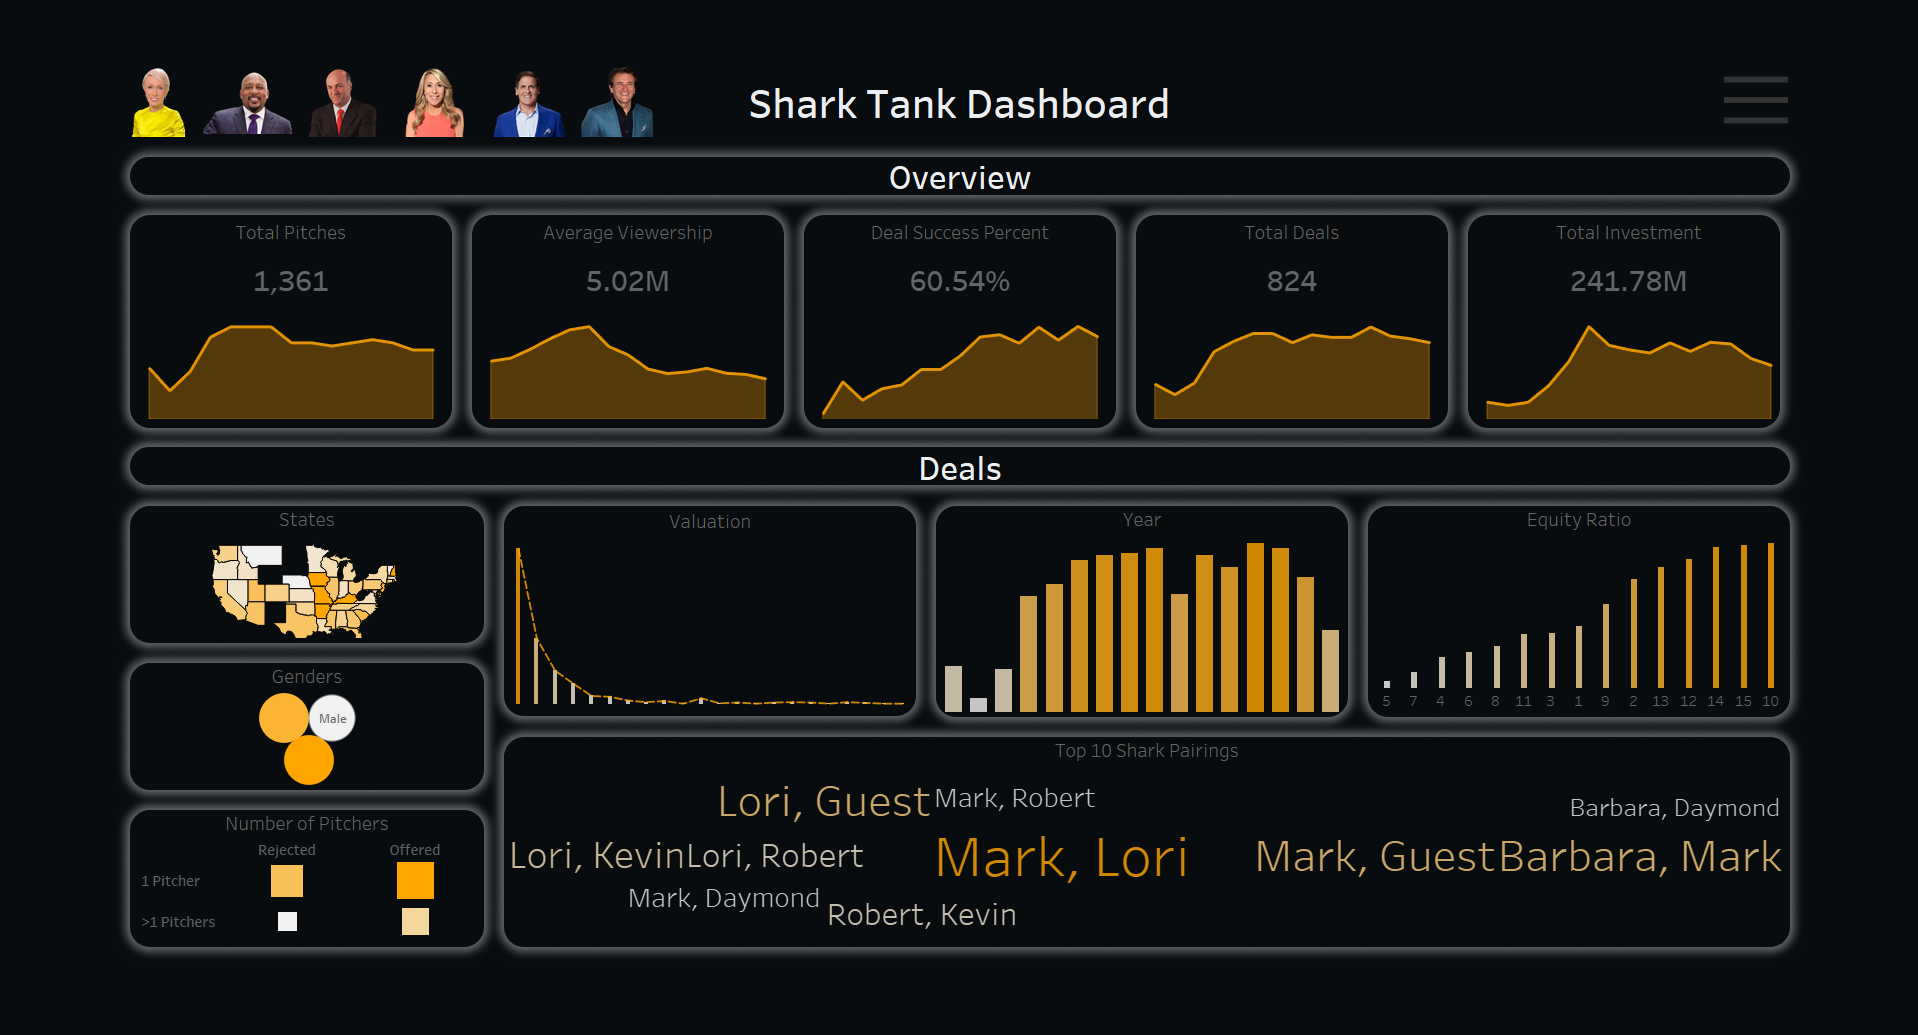

This screenshot's page, from the dashboard's own definition file:
{"tool":"tableau","page":{"name":"Main Dashboard","canvas":[1700,900],"ordinal":4},"visuals":[{"type":"image","param":"Image/Main Dashboard Figma Frame v2.png","box":[0,0,1700,900]},{"type":"dashboard-object","box":[0,0,93,70]},{"type":"dashboard-object","box":[93,0,93,70]},{"type":"dashboard-object","box":[186,0,92,70]},{"type":"dashboard-object","box":[278,0,92,70]},{"type":"dashboard-object","box":[370,0,92,70]},{"type":"dashboard-object","box":[462,0,92,70]},{"type":"text","box":[554,0,591,70]},{"type":"filter","title":"Total Pitches","param":"[federated.1ieom2h10l72pi1cs9e2u08v19sh].[none:season:ok]","box":[1145,0,153,70]},{"type":"blank","box":[1145,0,97,70]},{"type":"filter","title":"Total Pitches","param":"[federated.1ieom2h10l72pi1cs9e2u08v19sh].[none:deal_valuation:qk]","box":[1298,0,153,70]},{"type":"filter","title":"Total Pitches","param":"[federated.1ieom2h10l72pi1cs9e2u08v19sh].[none:industry:nk]","box":[1451,0,152,70]},{"type":"text","box":[0,70,1700,78]},{"type":"text","box":[20,148,322,33]},{"type":"text","box":[362,148,312,33]},{"type":"text","box":[694,148,312,33]},{"type":"text","box":[1026,148,312,33]},{"type":"text","box":[1358,148,322,33]},{"type":"worksheet","title":"BAN Total Pitches","mark":"Text","box":[20,181,322,63]},{"type":"worksheet","title":"BAN Avg Viewership","mark":"Text","box":[362,181,312,63]},{"type":"worksheet","title":"BAN Success Percent","mark":"Text","box":[694,181,312,63]},{"type":"worksheet","title":"BAN Total Deals","mark":"Text","box":[1026,181,312,63]},{"type":"worksheet","title":"BAN Total Investment Raised","mark":"Text","box":[1358,181,322,63]},{"type":"worksheet","title":"Total Pitches","mark":"Line","rows":["data_1A36516F31B94259A03002EB3918A69C","data_1A36516F31B94259A03002EB3918A69C"],"cols":["season"],"box":[20,244,322,117]},{"type":"worksheet","title":"Average Viewership","mark":"Area","rows":["viewers","viewers"],"cols":["season"],"box":[362,244,312,117]},{"type":"worksheet","title":"Average Success Percent","mark":"Area","rows":["Calculation_2397322443182063616","Calculation_2397322443182063616"],"cols":["season"],"box":[694,244,312,117]},{"type":"worksheet","title":"Total Deals","mark":"Line","rows":["Deal (copy)_2397322443185983489","Deal (copy)_2397322443185983489"],"cols":["season"],"box":[1026,244,312,117]},{"type":"worksheet","title":"Total Investment Raised","mark":"Area","rows":["deal_amount","deal_amount"],"cols":["season"],"box":[1358,244,322,117]},{"type":"text","box":[0,361,1700,78]},{"type":"text","box":[20,439,354,25]},{"type":"text","box":[394,439,412,29]},{"type":"text","box":[826,439,412,25]},{"type":"text","box":[1258,439,422,25]},{"type":"worksheet","title":"Deals By States","mark":"Multipolygon","box":[20,464,354,112]},{"type":"worksheet","title":"Deals by Year","mark":"Bar","rows":["Deal (copy)_2397322443185983489"],"cols":["air_date"],"box":[826,464,412,186]},{"type":"worksheet","title":"Offered:Deal Equity Ratio by Season","mark":"Bar","rows":["Calculation_2397322443195224066"],"cols":["season"],"box":[1258,464,422,186]},{"type":"worksheet","title":"Mode Valuation of Deals (M)","mark":"Bar","rows":["data_1A36516F31B94259A03002EB3918A69C","data_1A36516F31B94259A03002EB3918A69C"],"cols":["Deal Valuation (bin)"],"box":[394,468,412,182]},{"type":"text","box":[20,596,354,25]},{"type":"worksheet","title":"Success Percent by Pitch Gender","mark":"Circle","box":[20,621,354,102]},{"type":"text","box":[394,670,1286,25]},{"type":"worksheet","title":"Most Common Shark Pairs","mark":"Text","box":[394,695,1286,185]},{"type":"text","box":[20,743,354,25]},{"type":"worksheet","title":"Success Percent by Number of Pitchers","mark":"Automatic","rows":["multi_pitcher"],"cols":["deal"],"box":[20,768,354,112]}]}

Visuals, with their boxes in screenshot pixels (x1, y1, x2, y2), scaled from the page's 1700x900 canvas onto the 1918x1035 screenshot:
image: [x1=0, y1=0, x2=1917, y2=1034]
dashboard-object: [x1=0, y1=0, x2=105, y2=80]
dashboard-object: [x1=105, y1=0, x2=210, y2=80]
dashboard-object: [x1=210, y1=0, x2=314, y2=80]
dashboard-object: [x1=314, y1=0, x2=417, y2=80]
dashboard-object: [x1=417, y1=0, x2=521, y2=80]
dashboard-object: [x1=521, y1=0, x2=625, y2=80]
text: [x1=625, y1=0, x2=1292, y2=80]
"Total Pitches" filter: [x1=1292, y1=0, x2=1464, y2=80]
blank: [x1=1292, y1=0, x2=1401, y2=80]
"Total Pitches" filter: [x1=1464, y1=0, x2=1637, y2=80]
"Total Pitches" filter: [x1=1637, y1=0, x2=1809, y2=80]
text: [x1=0, y1=80, x2=1917, y2=170]
text: [x1=23, y1=170, x2=386, y2=208]
text: [x1=408, y1=170, x2=760, y2=208]
text: [x1=783, y1=170, x2=1135, y2=208]
text: [x1=1158, y1=170, x2=1510, y2=208]
text: [x1=1532, y1=170, x2=1895, y2=208]
"BAN Total Pitches" worksheet (Text marks): [x1=23, y1=208, x2=386, y2=281]
"BAN Avg Viewership" worksheet (Text marks): [x1=408, y1=208, x2=760, y2=281]
"BAN Success Percent" worksheet (Text marks): [x1=783, y1=208, x2=1135, y2=281]
"BAN Total Deals" worksheet (Text marks): [x1=1158, y1=208, x2=1510, y2=281]
"BAN Total Investment Raised" worksheet (Text marks): [x1=1532, y1=208, x2=1895, y2=281]
"Total Pitches" worksheet (Line marks): [x1=23, y1=281, x2=386, y2=415]
"Average Viewership" worksheet (Area marks): [x1=408, y1=281, x2=760, y2=415]
"Average Success Percent" worksheet (Area marks): [x1=783, y1=281, x2=1135, y2=415]
"Total Deals" worksheet (Line marks): [x1=1158, y1=281, x2=1510, y2=415]
"Total Investment Raised" worksheet (Area marks): [x1=1532, y1=281, x2=1895, y2=415]
text: [x1=0, y1=415, x2=1917, y2=505]
text: [x1=23, y1=505, x2=422, y2=534]
text: [x1=445, y1=505, x2=909, y2=538]
text: [x1=932, y1=505, x2=1397, y2=534]
text: [x1=1419, y1=505, x2=1895, y2=534]
"Deals By States" worksheet (Multipolygon marks): [x1=23, y1=534, x2=422, y2=662]
"Deals by Year" worksheet (Bar marks): [x1=932, y1=534, x2=1397, y2=747]
"Offered:Deal Equity Ratio by Season" worksheet (Bar marks): [x1=1419, y1=534, x2=1895, y2=747]
"Mode Valuation of Deals (M)" worksheet (Bar marks): [x1=445, y1=538, x2=909, y2=747]
text: [x1=23, y1=685, x2=422, y2=714]
"Success Percent by Pitch Gender" worksheet (Circle marks): [x1=23, y1=714, x2=422, y2=831]
text: [x1=445, y1=770, x2=1895, y2=799]
"Most Common Shark Pairs" worksheet (Text marks): [x1=445, y1=799, x2=1895, y2=1012]
text: [x1=23, y1=854, x2=422, y2=883]
"Success Percent by Number of Pitchers" worksheet: [x1=23, y1=883, x2=422, y2=1012]
